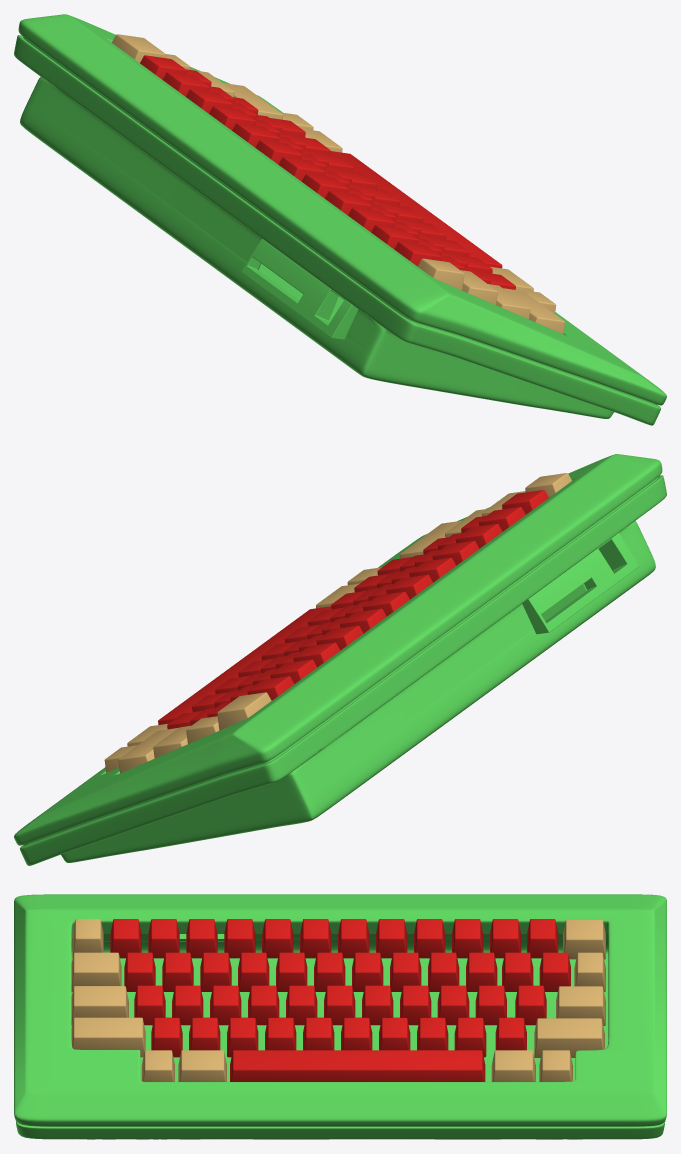
The model's file is keyboard-id.fbx.
3 renders of one model, top to bottom at view 1: azimuth 30°, elevation 25°; view 2: azimuth 150°, elevation 25°; view 3: azimuth 270°, elevation 25°, orthographic. The views are drawn at different scales.
Visible parts, largest first — view 1: Keyboard; view 2: Keyboard; view 3: Keyboard.
Part boxes in pixels (left/top/right/bottom): Keyboard: left=14, top=14, right=666, bottom=425; Keyboard: left=14, top=454, right=666, bottom=865; Keyboard: left=14, top=894, right=666, bottom=1139.
Bounding box in the file's own units: 0.1816 × 0.1136 × 0.438.
